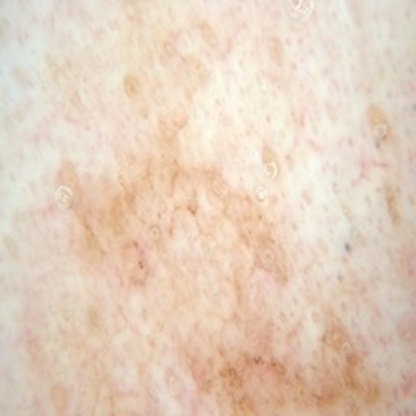malignant: (87, 153, 343, 393)
